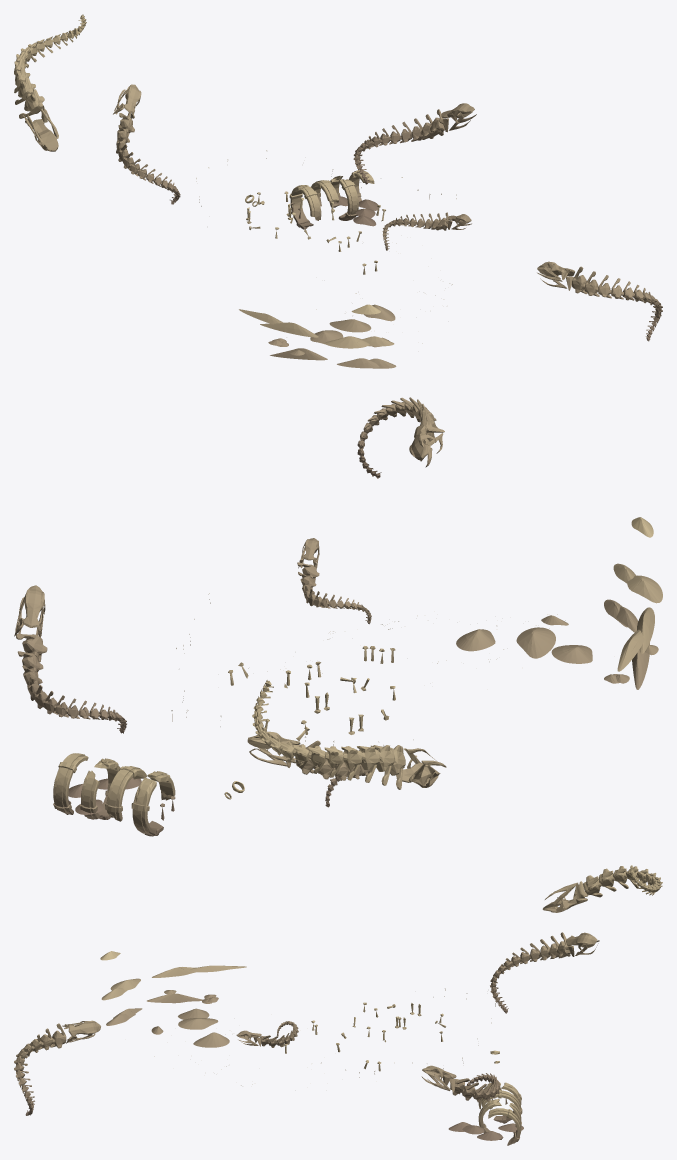
File: abandoned-aqueduct.glb
3 views of the same model, one above another, from view 1: azimuth 30°, elevation 25°; view 2: azimuth 150°, elevation 25°; view 3: azimuth 270°, elevation 25° (orthographic). The views are drawn at different scales.
Size of the model in its own units: 701 by 359 by 1127.
